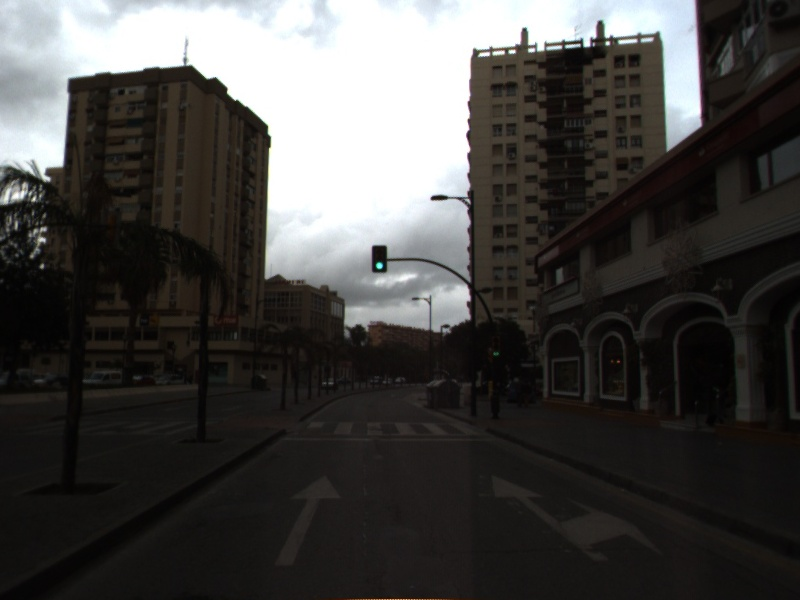STRAIGHT: (273, 473, 345, 568)
STRAIGHT_RIGHT: (488, 473, 664, 563)
